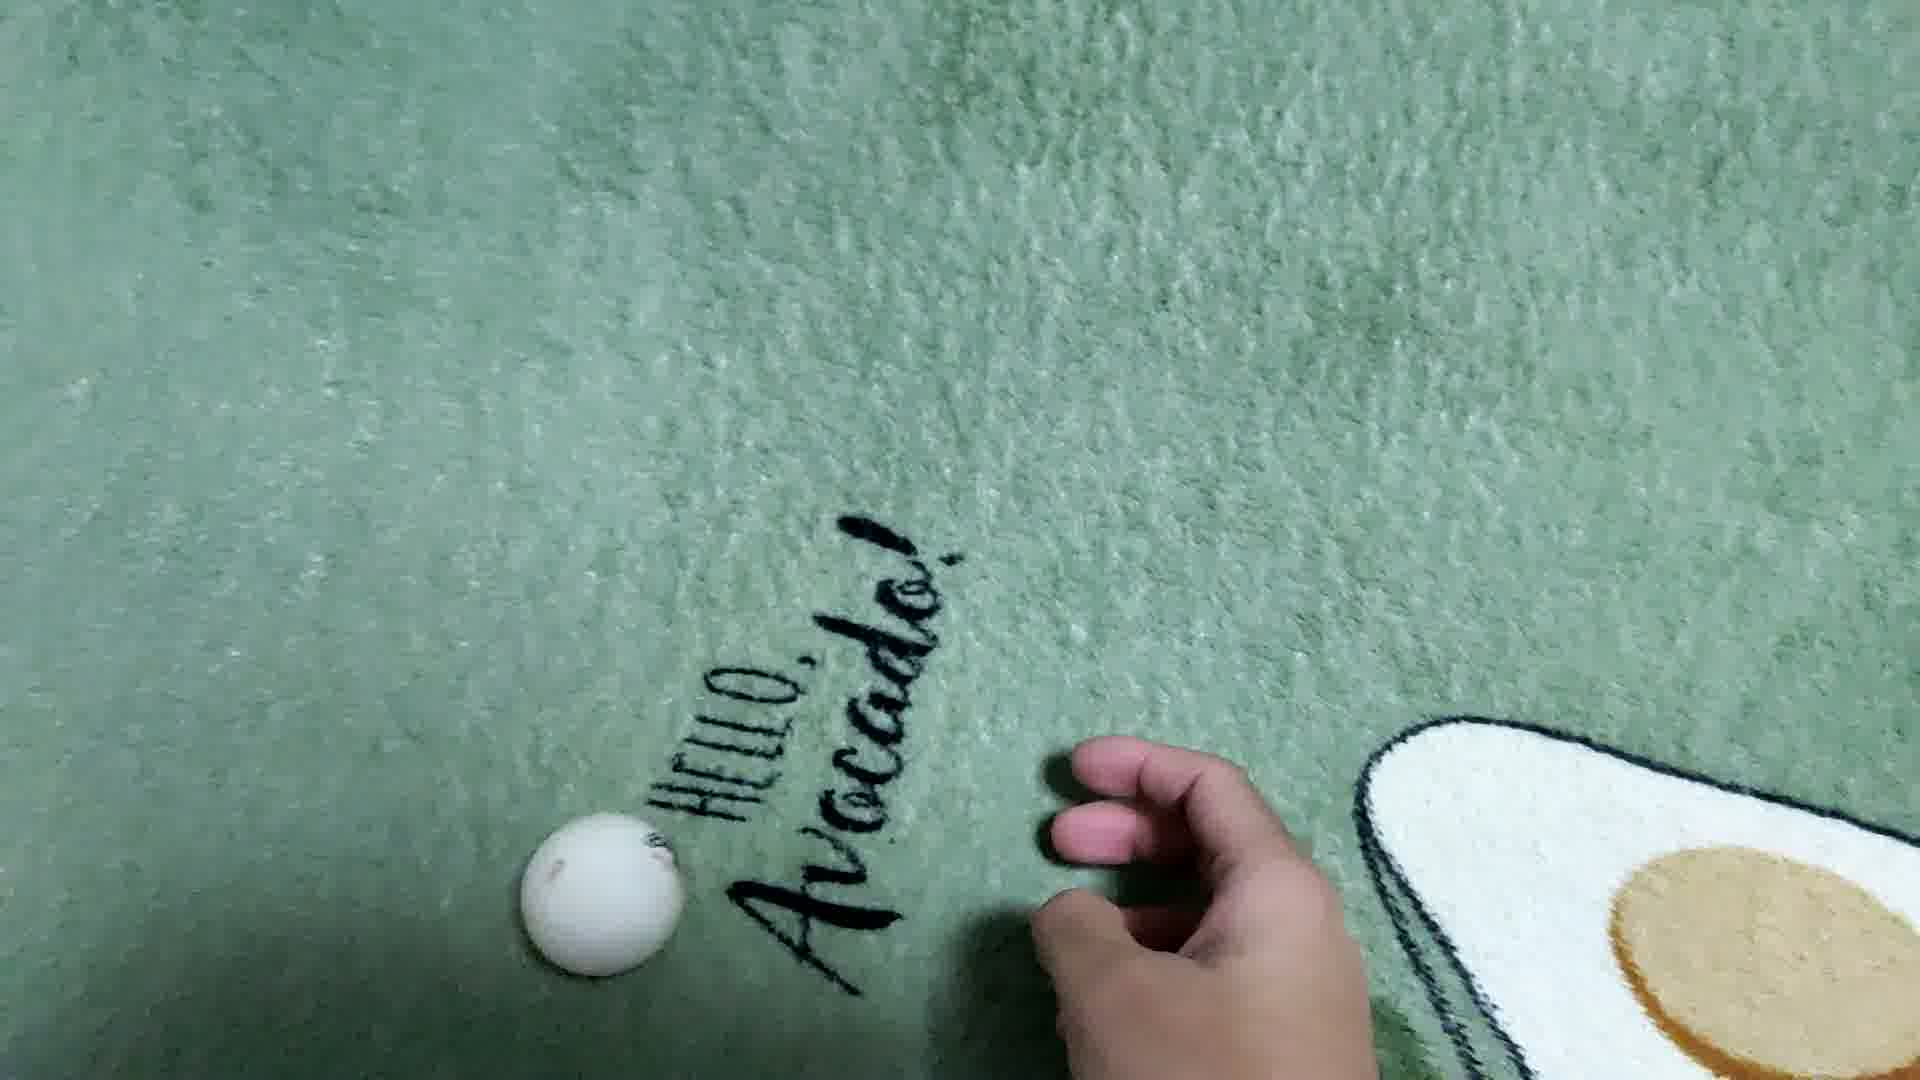Ball: (514, 814, 680, 977)
